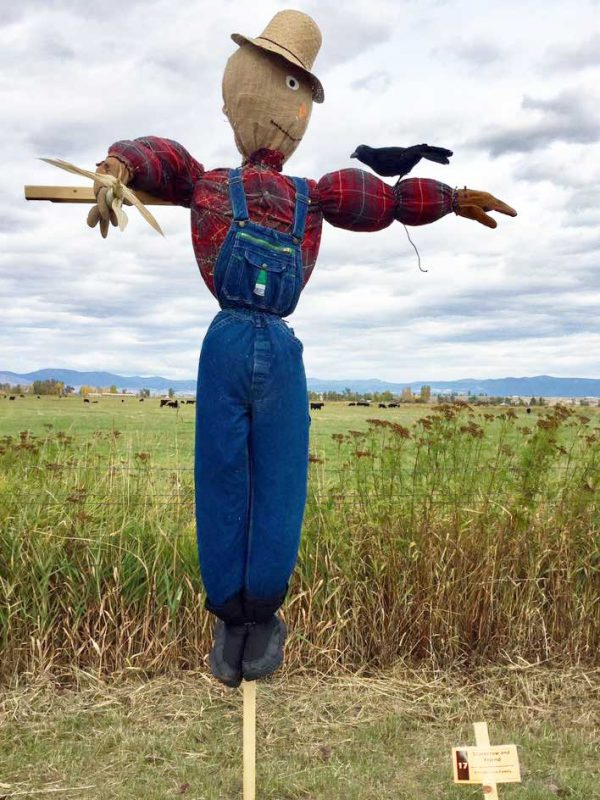person-like: (75, 1, 523, 700)
